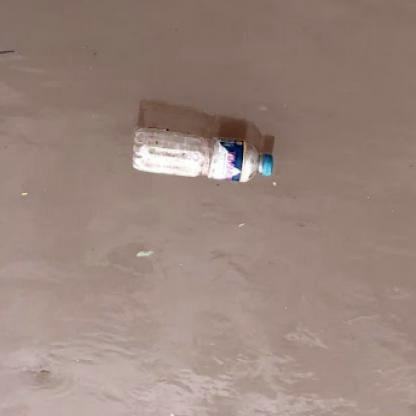Plastic: (130, 127, 278, 185)
